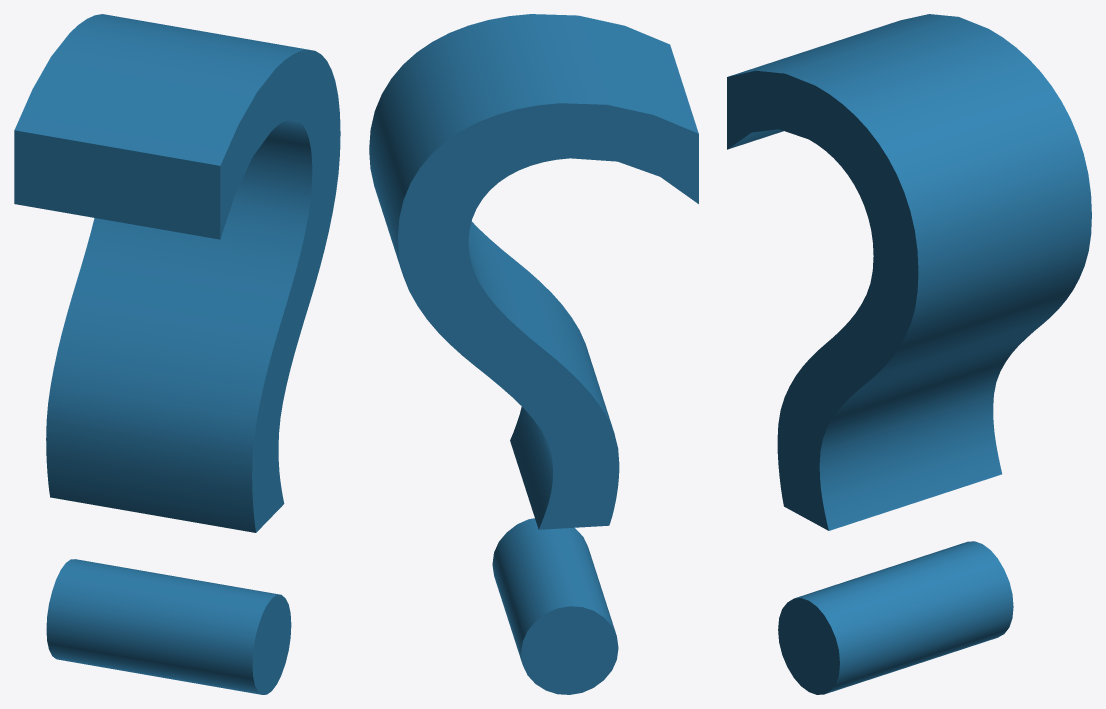
File: Interrogation3D.glb
The picture shows the model from 3 angles, left to right: view 1: azimuth 30°, elevation 25°; view 2: azimuth 150°, elevation 25°; view 3: azimuth 270°, elevation 25°; orthographic projection. The views are drawn at different scales.
Visible parts, largest first — view 1: mesh_id71; view 2: mesh_id71; view 3: mesh_id71.
Boxes of the visible parts, <box> form: mesh_id71: <box>14,14,340,694</box>; mesh_id71: <box>369,14,698,694</box>; mesh_id71: <box>727,14,1091,694</box>.
Size of the model in its own units: 0.0724 by 0.1277 by 0.0692.
Materials: 1 (1 with a texture image).
